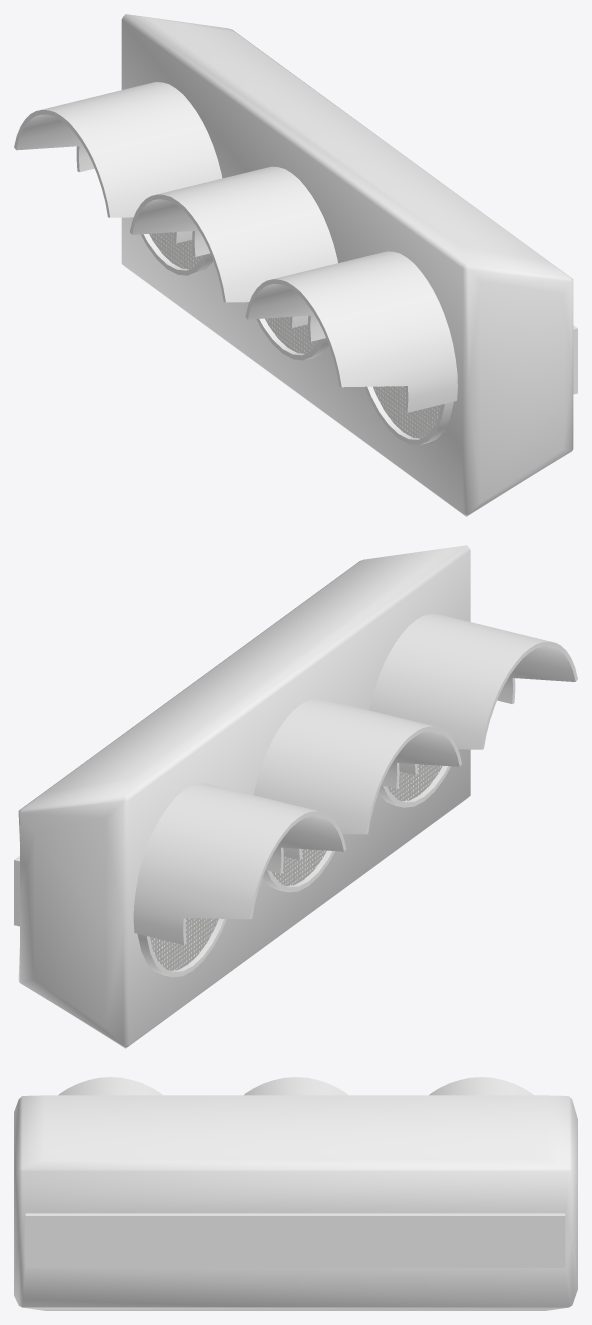
Rendered from 横向右转灯_YellowLight.glb.
3 views of the same model, one above another, from view 1: azimuth 30°, elevation 25°; view 2: azimuth 150°, elevation 25°; view 3: azimuth 270°, elevation 25° (orthographic). The views are drawn at different scales.
Parts seen in each view (by area): view 1: 横向右转灯_YellowLight; view 2: 横向右转灯_YellowLight; view 3: 横向右转灯_YellowLight.
Part boxes in pixels (x1=…): 横向右转灯_YellowLight: x1=14, y1=14, x2=577, y2=516; 横向右转灯_YellowLight: x1=14, y1=545, x2=577, y2=1048; 横向右转灯_YellowLight: x1=14, y1=1077, x2=577, y2=1310.
Bounding box in the file's own units: 0.6 × 0.65 × 1.58.
Materials: 3 (2 with a texture image).
